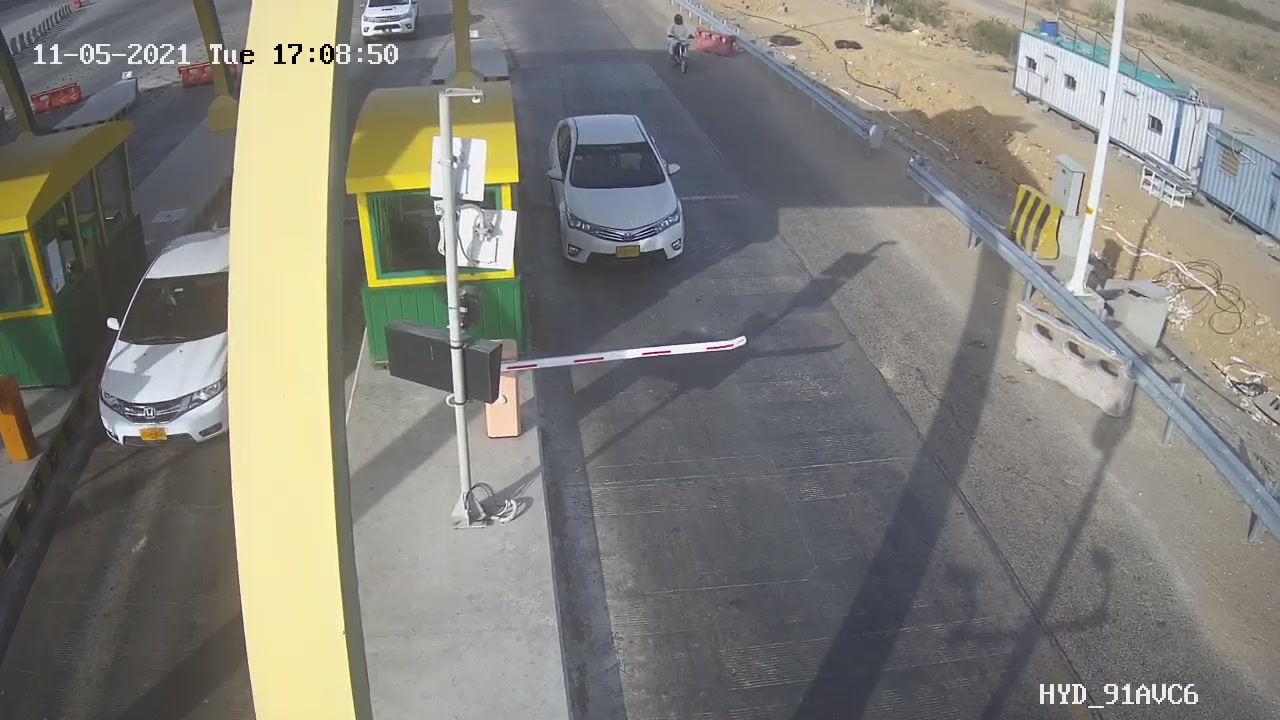F1: (529, 95, 709, 290)
